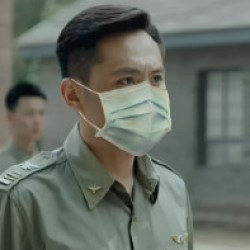mask: (54, 71, 180, 160)
